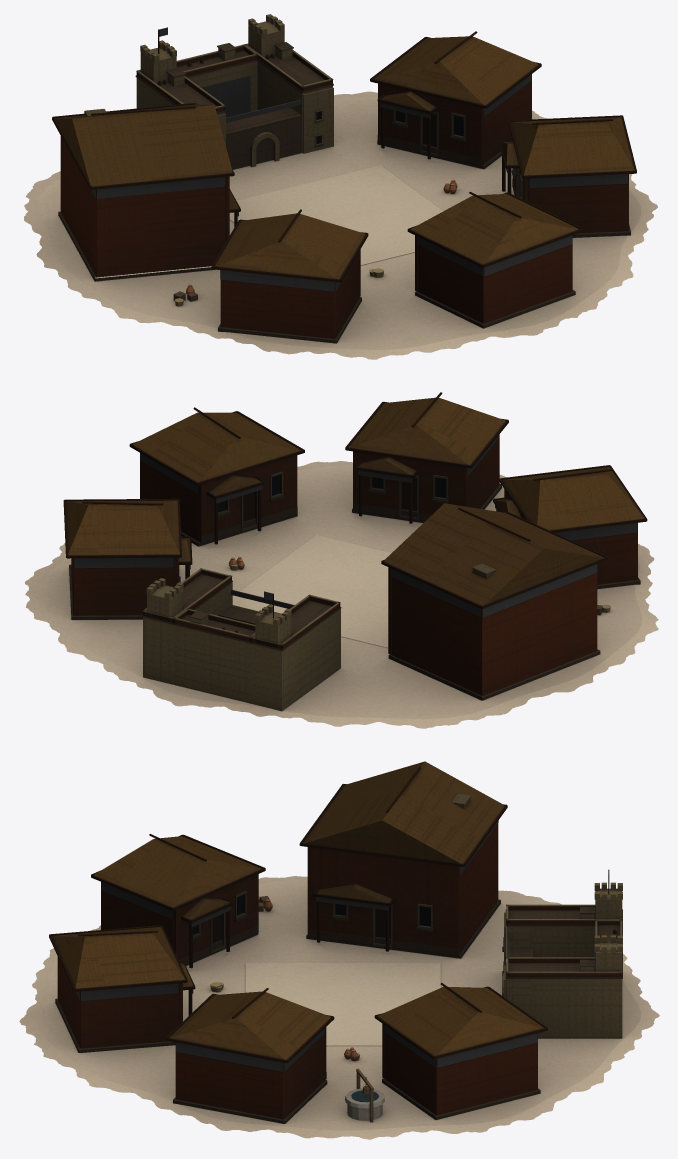
The model's file is gunpowder-town-small-a-westafrica-f7a6ed8a.glb.
3 views of the same model, one above another, from view 1: azimuth 30°, elevation 25°; view 2: azimuth 150°, elevation 25°; view 3: azimuth 270°, elevation 25° (orthographic).
Parts seen in each view (by area): view 1: LOD0; view 2: LOD0; view 3: LOD0.
Boxes of the visible parts, left/top/right/bottom form: LOD0: left=24, top=14, right=657, bottom=359; LOD0: left=25, top=392, right=658, bottom=728; LOD0: left=19, top=761, right=659, bottom=1139.
Size of what is drawn, in the model's own units: 3.95 by 0.9327 by 4.
Materials: 3 (3 with a texture image).
